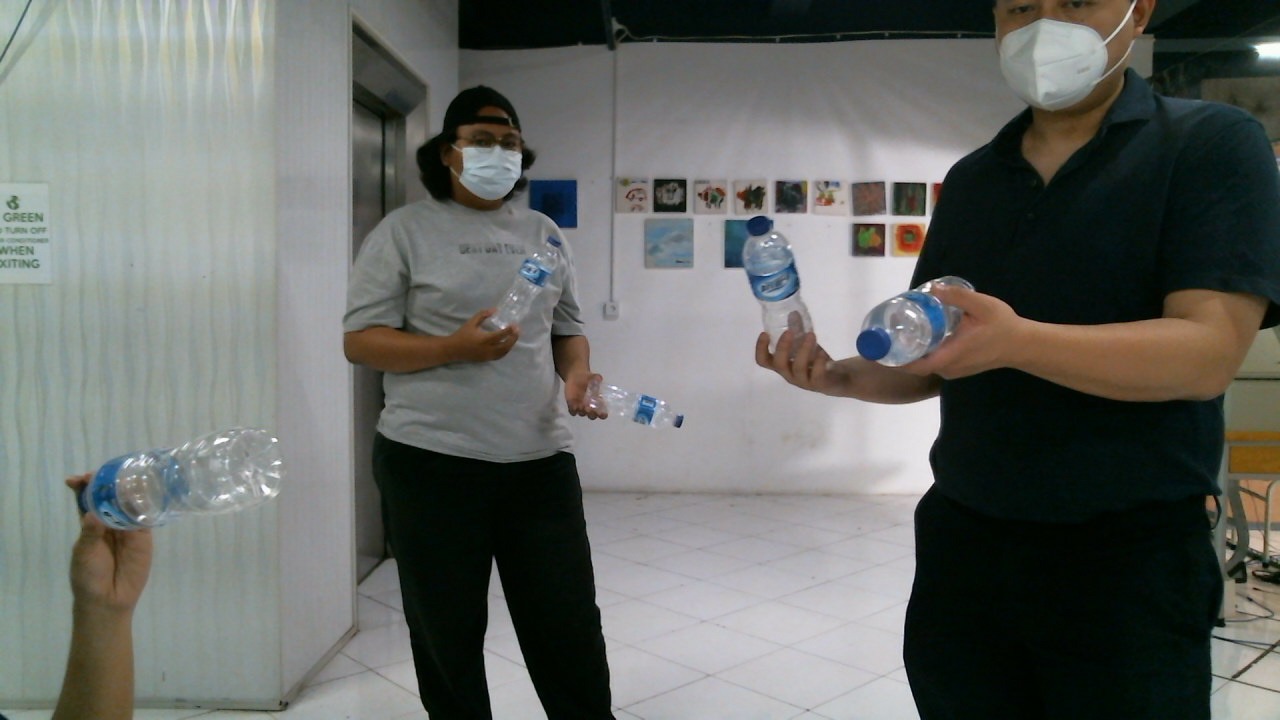Bottle: (71, 427, 284, 532), (742, 219, 818, 364), (848, 274, 973, 359), (489, 230, 562, 328), (581, 382, 684, 429)
